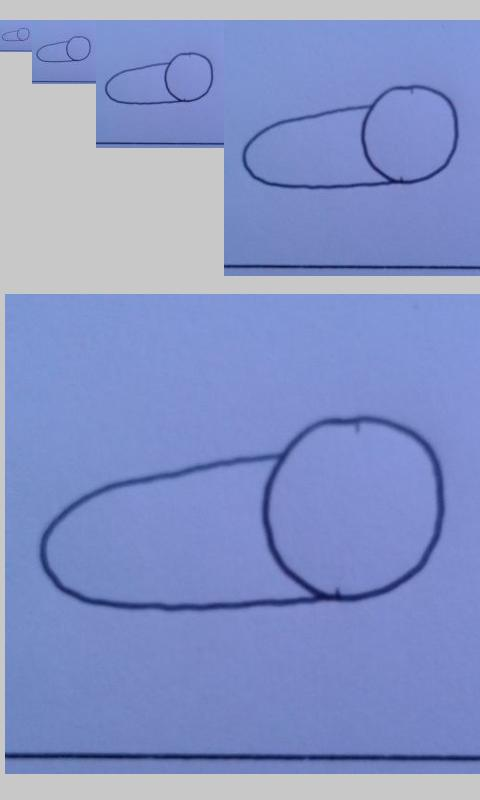switch: (37, 414, 447, 614), (241, 84, 460, 191), (104, 52, 214, 105), (35, 35, 92, 63), (1, 27, 31, 42)
